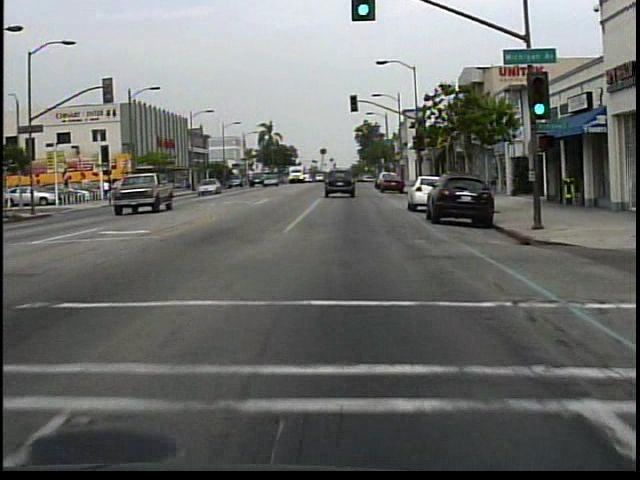person: (104, 178, 112, 203)
